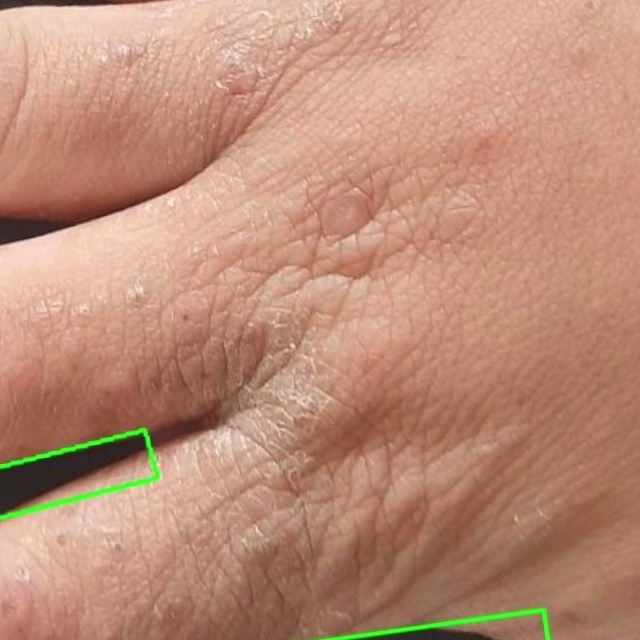Scabies: (0, 430, 158, 518)
